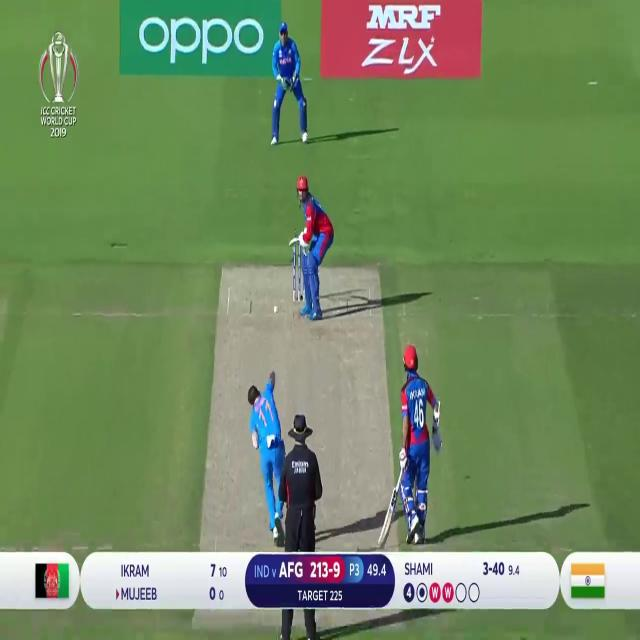ball: (273, 305, 279, 315)
